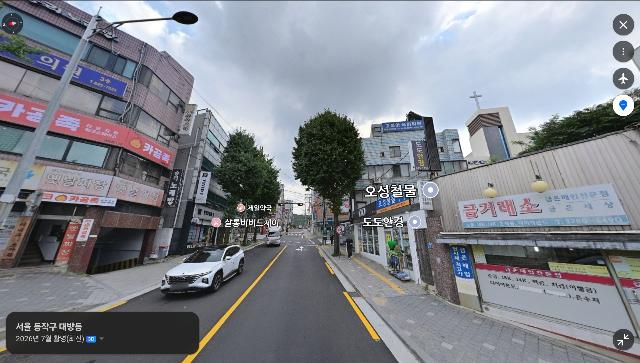other: (290, 108, 367, 257), (213, 126, 285, 247), (517, 88, 640, 157)
